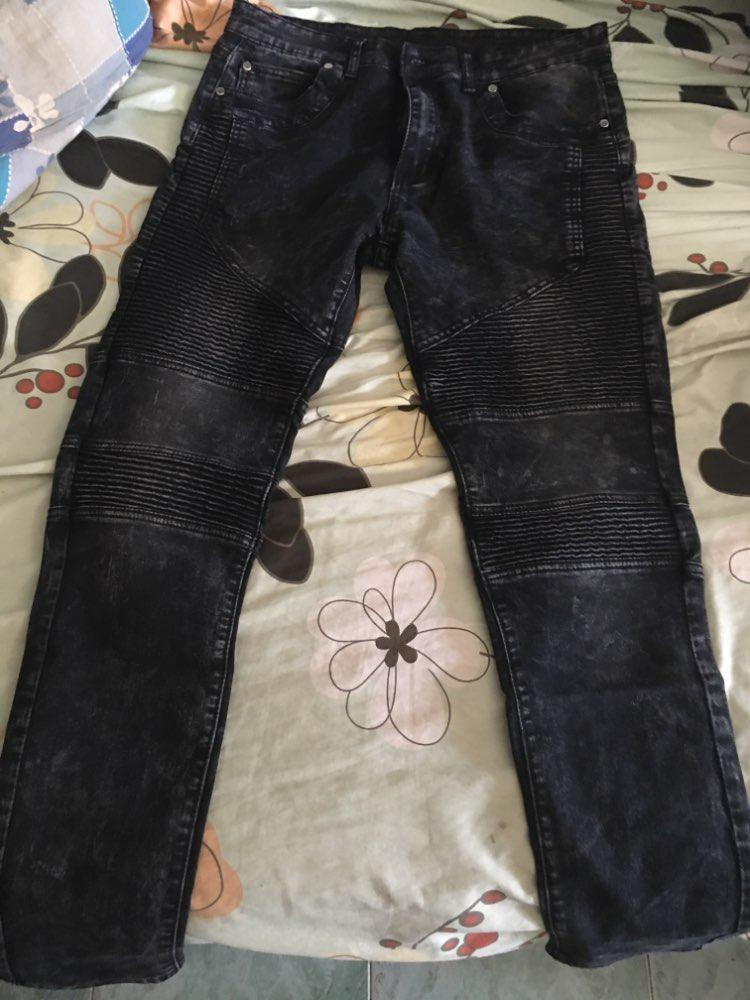jeans: (47, 14, 750, 921)
